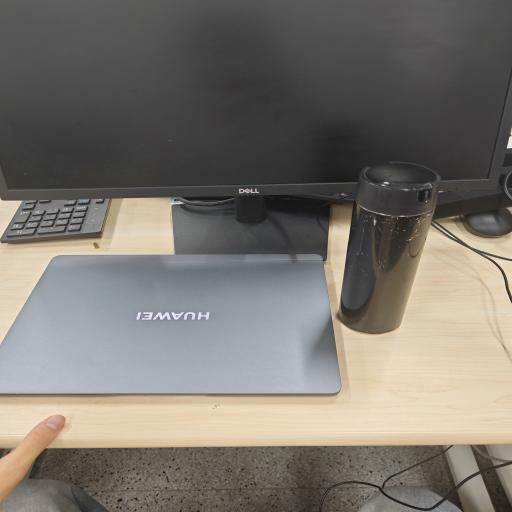laptop: (0, 254, 340, 394)
mouse: (460, 208, 512, 238)
